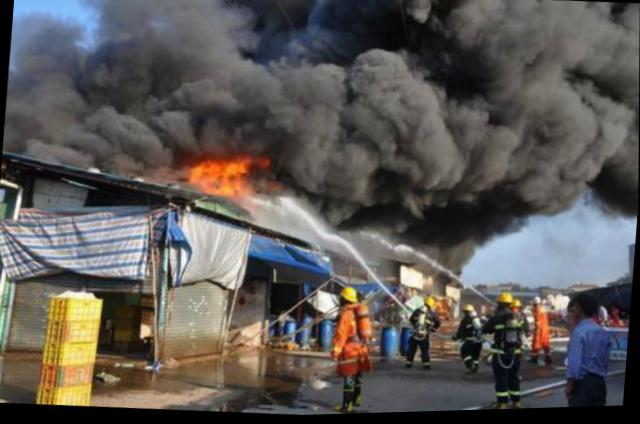fire: (187, 155, 247, 195)
